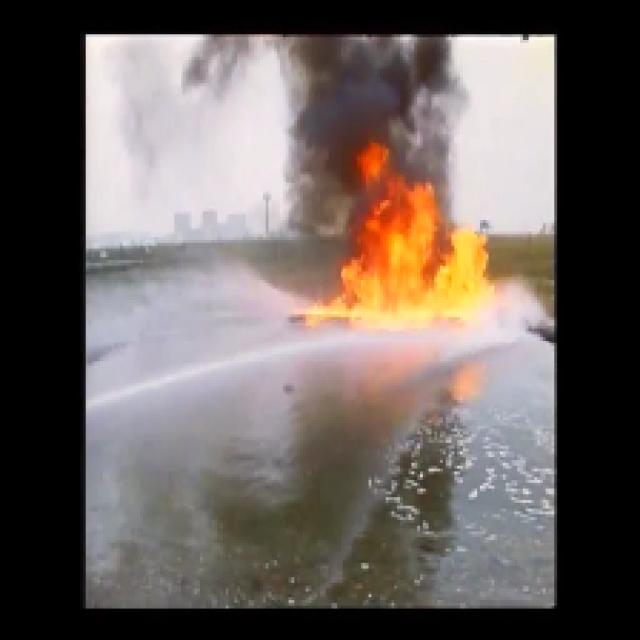fire: (343, 155, 489, 325)
smoke: (208, 37, 464, 134), (288, 138, 335, 235)
